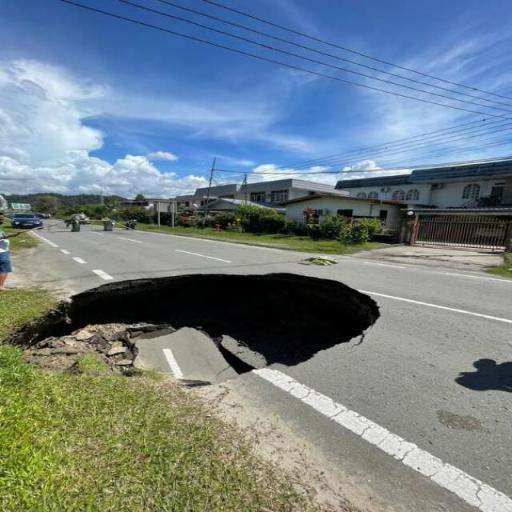Concentric_Crack: (11, 273, 380, 386)
